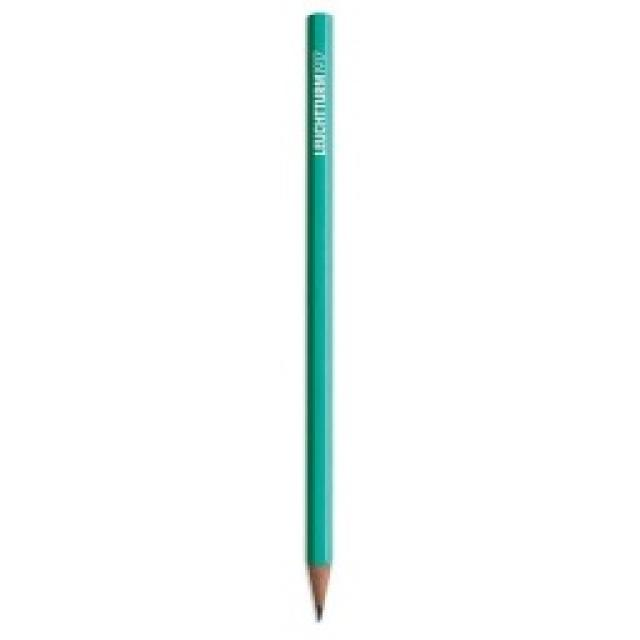pencil: (300, 8, 338, 622)
